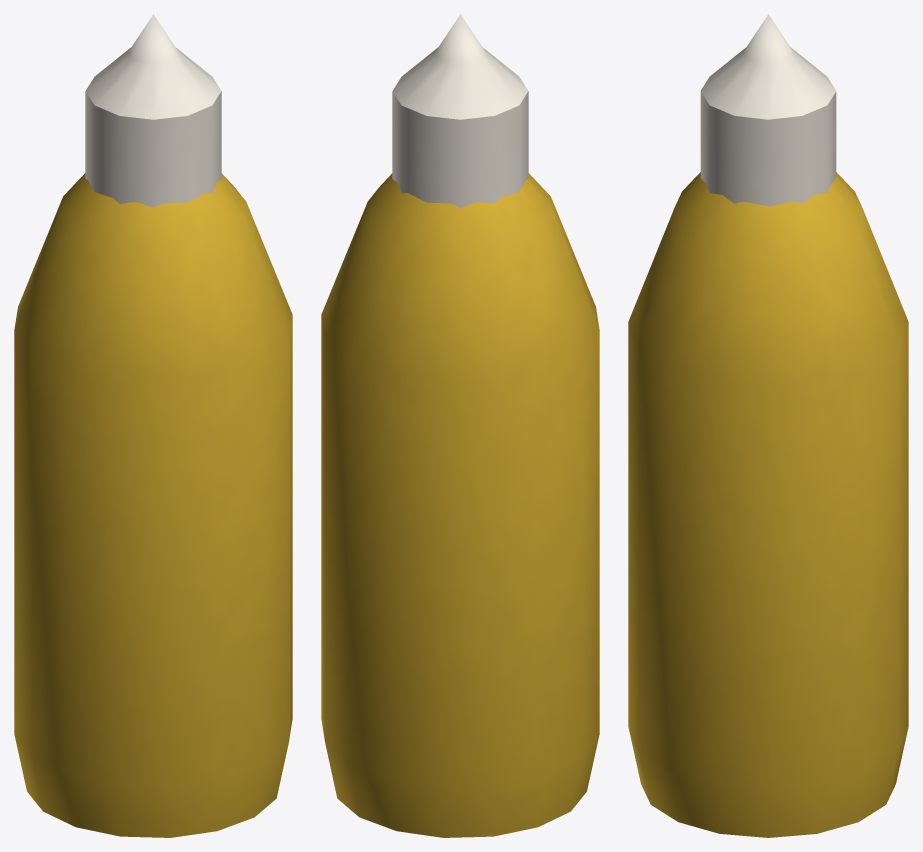
Rendered from SM_Bottle_Mustard.fbx.
The picture shows the model from 3 angles, left to right: view 1: azimuth 30°, elevation 25°; view 2: azimuth 150°, elevation 25°; view 3: azimuth 270°, elevation 25°; orthographic projection.
Parts seen in each view (by area): view 1: SM_Bottle_Mustard; view 2: SM_Bottle_Mustard; view 3: SM_Bottle_Mustard.
Part boxes in pixels (left/top/right/bottom): SM_Bottle_Mustard: left=14, top=14, right=292, bottom=837; SM_Bottle_Mustard: left=321, top=14, right=599, bottom=837; SM_Bottle_Mustard: left=628, top=14, right=908, bottom=837.
Bounding box in the file's own units: 0.066 × 0.2 × 0.066.
2 materials, 2 textured.
